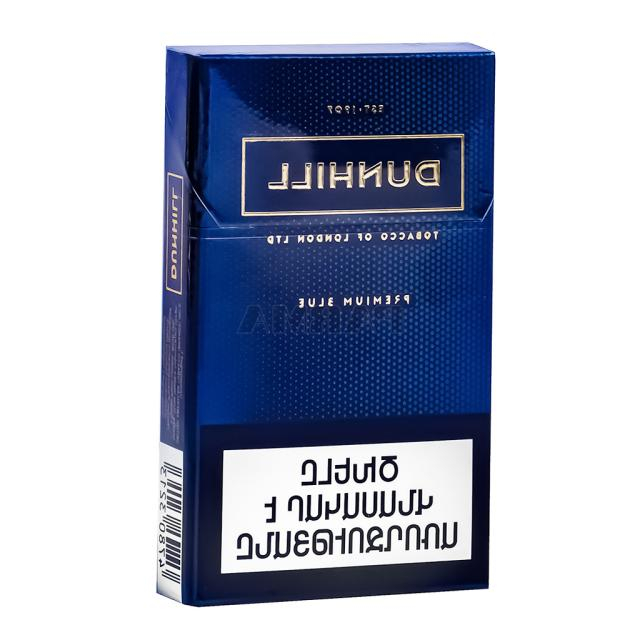dunhill: (151, 37, 498, 606)
